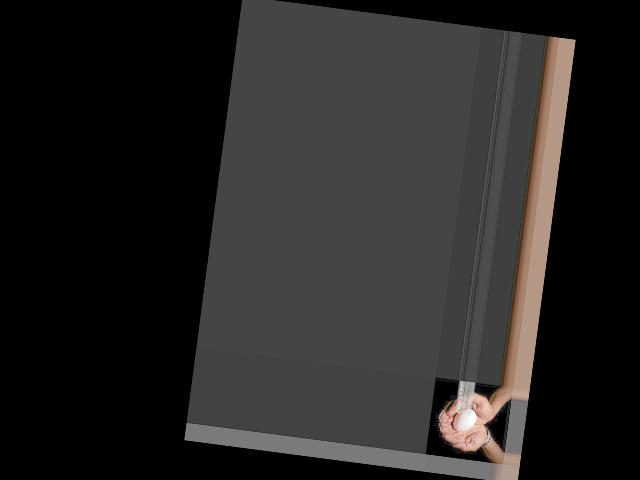egg: (451, 407, 476, 433)
